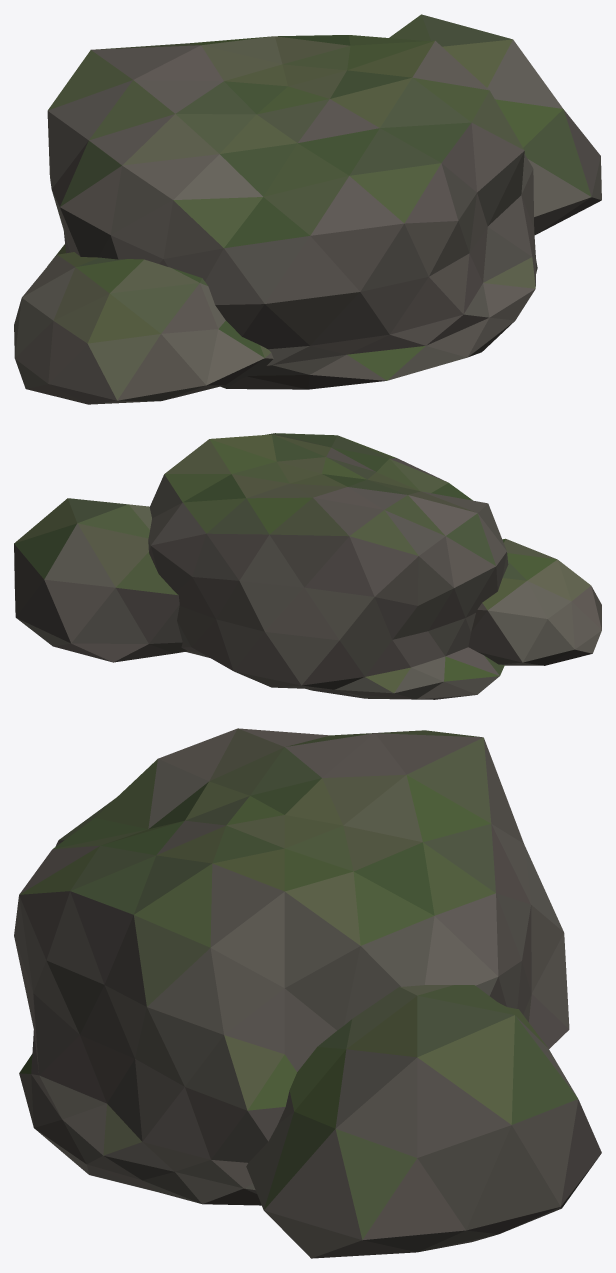
Rendered from env_basalt_outcrop.glb.
The picture shows the model from 3 angles, top to bottom: view 1: azimuth 30°, elevation 25°; view 2: azimuth 150°, elevation 25°; view 3: azimuth 270°, elevation 25°; orthographic projection. The views are drawn at different scales.
Parts seen in each view (by area): view 1: env_basalt_outcrop; view 2: env_basalt_outcrop; view 3: env_basalt_outcrop.
Part boxes in pixels (box(x1,y1,x2,y2)): env_basalt_outcrop: box(14, 14, 601, 404); env_basalt_outcrop: box(14, 433, 601, 699); env_basalt_outcrop: box(14, 728, 601, 1258).
Size of the model in its own units: 9.82 by 3.7 by 6.21.
